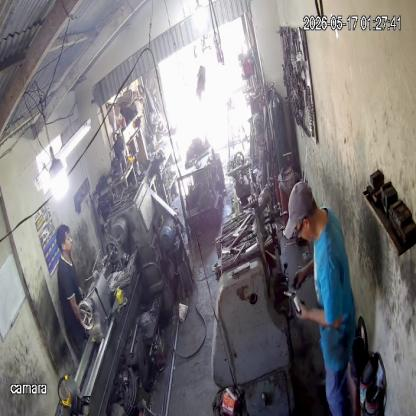lentes: (293, 218, 304, 234)
